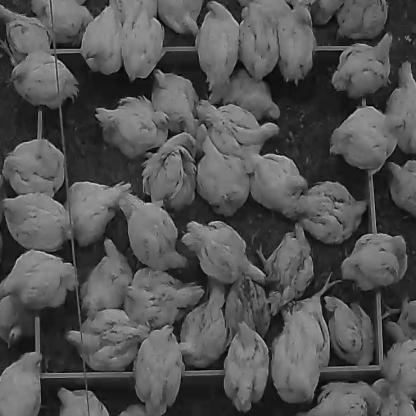chicken: (119, 192, 188, 272), (65, 308, 150, 371), (329, 105, 404, 173), (271, 308, 324, 404), (284, 274, 338, 367), (182, 218, 263, 279), (256, 223, 314, 307), (295, 180, 368, 246), (197, 98, 278, 157), (94, 94, 168, 158), (0, 249, 78, 308), (62, 180, 131, 246), (133, 324, 183, 413), (178, 280, 227, 367), (242, 149, 306, 215), (331, 30, 391, 100), (79, 236, 133, 313), (223, 320, 268, 412), (197, 136, 250, 214), (3, 192, 72, 251), (142, 132, 195, 208), (341, 232, 407, 290), (322, 293, 375, 365), (2, 138, 66, 197), (209, 68, 280, 121), (196, 1, 238, 90), (10, 54, 79, 108), (121, 6, 166, 80), (150, 66, 197, 135), (80, 0, 122, 76), (224, 279, 270, 347), (0, 3, 51, 64), (297, 380, 380, 416), (238, 3, 278, 77), (385, 59, 416, 153), (278, 7, 315, 83), (31, 0, 92, 46), (0, 352, 41, 416), (380, 339, 415, 400), (336, 0, 388, 40), (0, 292, 35, 347), (384, 160, 416, 216), (371, 377, 415, 415), (157, 0, 202, 36), (56, 386, 108, 415), (380, 298, 415, 338), (304, 0, 349, 25), (111, 0, 156, 22), (116, 402, 149, 415)
